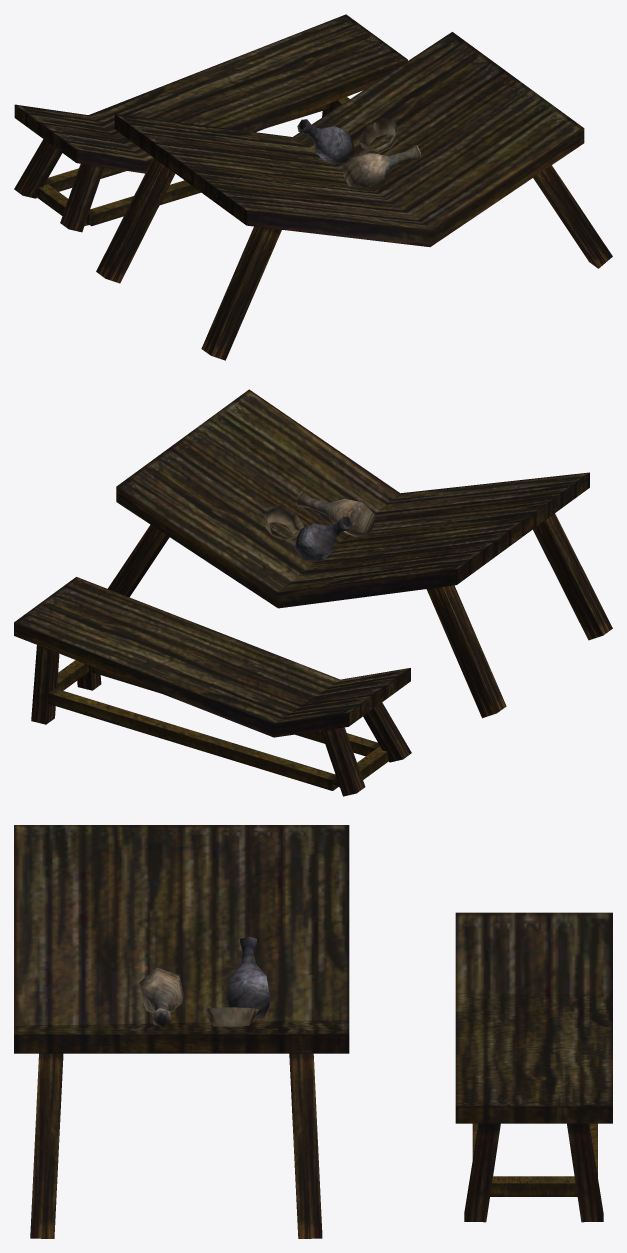
The picture shows the model from 3 angles, top to bottom: view 1: azimuth 30°, elevation 25°; view 2: azimuth 150°, elevation 25°; view 3: azimuth 270°, elevation 25°; orthographic projection. The views are drawn at different scales.
Visible parts, largest first — view 1: Sphere01; view 2: Sphere01; view 3: Sphere01.
Boxes of the visible parts, x1,y1,x2,y2 form: Sphere01: [14, 14, 612, 360]; Sphere01: [14, 389, 612, 796]; Sphere01: [14, 825, 612, 1238].
Size of the model in its own units: 2.44 by 0.9 by 2.48.
